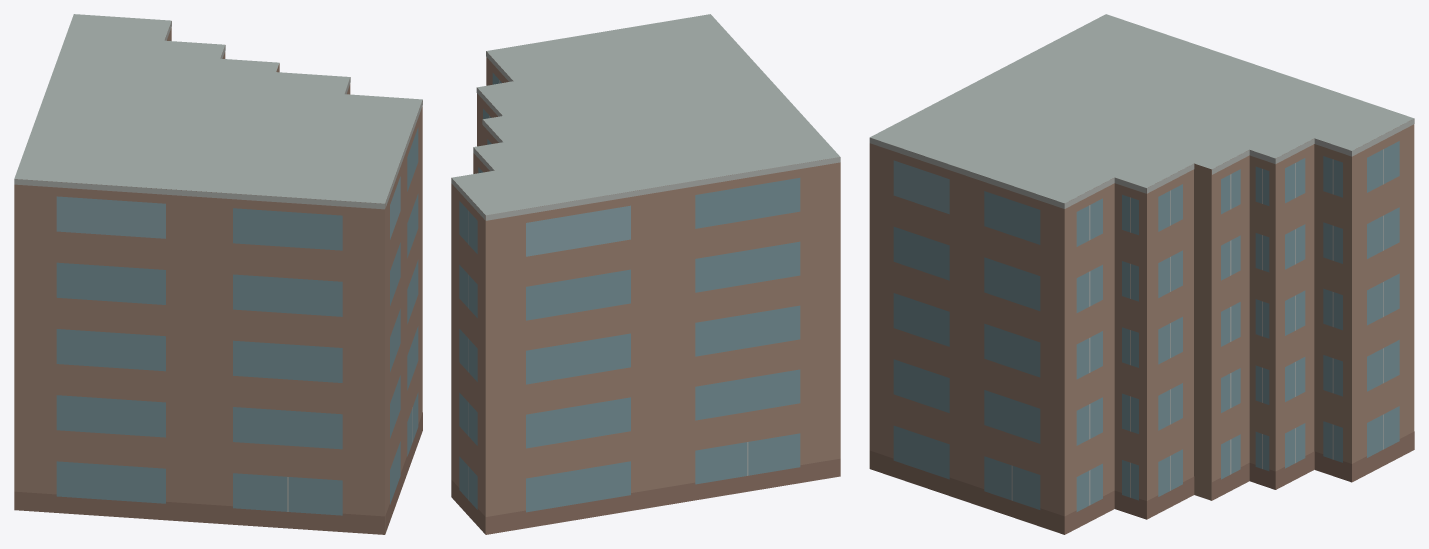
Rendered from survey-upis-32969142.glb.
3 renders of one model, left to right at view 1: azimuth 30°, elevation 25°; view 2: azimuth 150°, elevation 25°; view 3: azimuth 270°, elevation 25°, orthographic. The views are drawn at different scales.
Visible parts, largest first — view 1: survey-upis-32969142.tmp; view 2: survey-upis-32969142.tmp; view 3: survey-upis-32969142.tmp.
Part boxes in pixels (bbox=[...]): survey-upis-32969142.tmp: bbox=[14, 14, 422, 534]; survey-upis-32969142.tmp: bbox=[451, 14, 840, 534]; survey-upis-32969142.tmp: bbox=[869, 14, 1414, 534].
Size of the model in its own units: 17.41 by 14.2 by 21.16.
